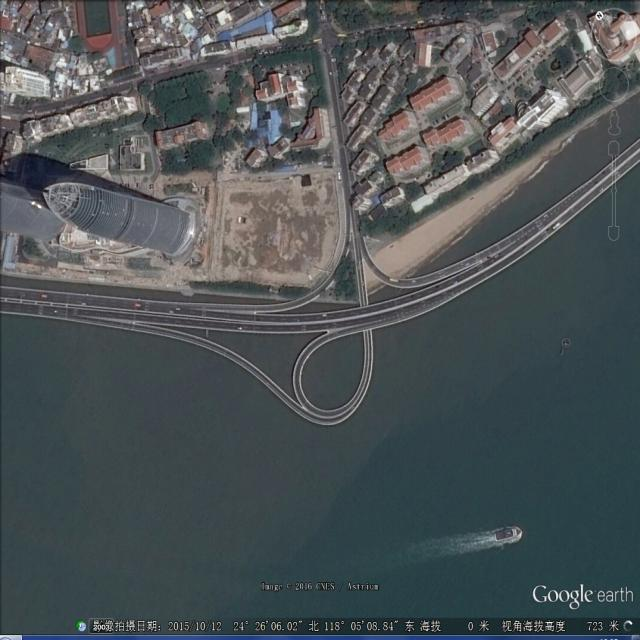overpass: (128, 197, 489, 436)
